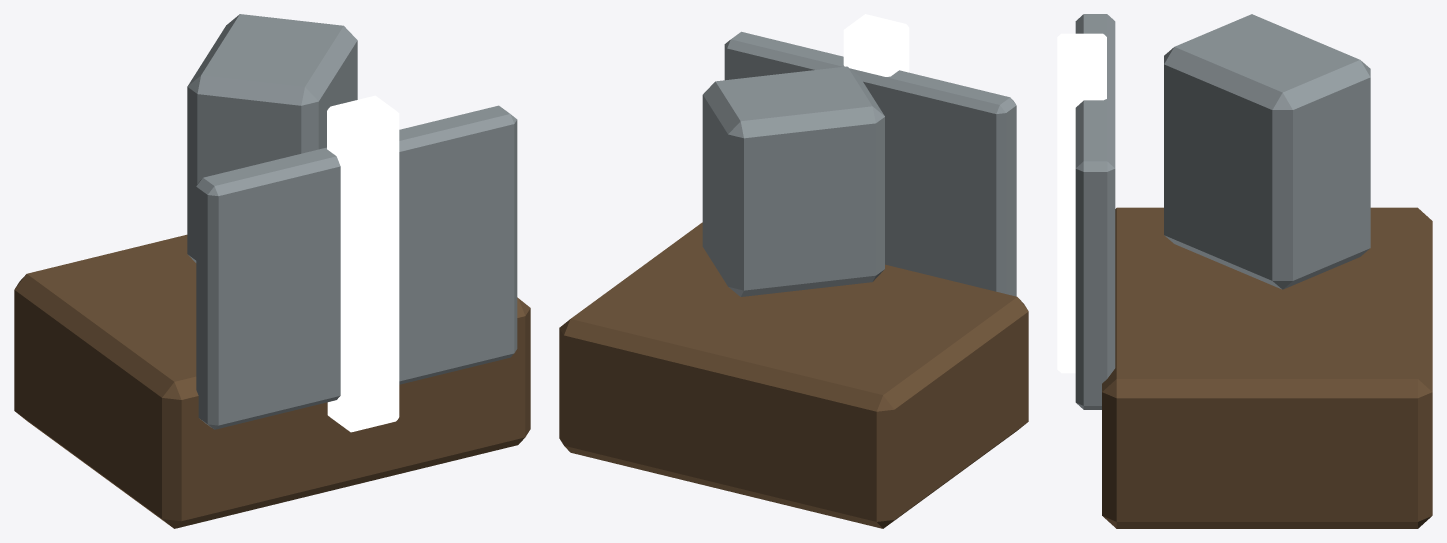
Rendered from town_chapel_altar.glb.
3 views of the same model, side by side, from view 1: azimuth 30°, elevation 25°; view 2: azimuth 150°, elevation 25°; view 3: azimuth 270°, elevation 25° (orthographic). The views are drawn at different scales.
Size of the model in its own units: 1.34 by 1.36 by 1.16.
